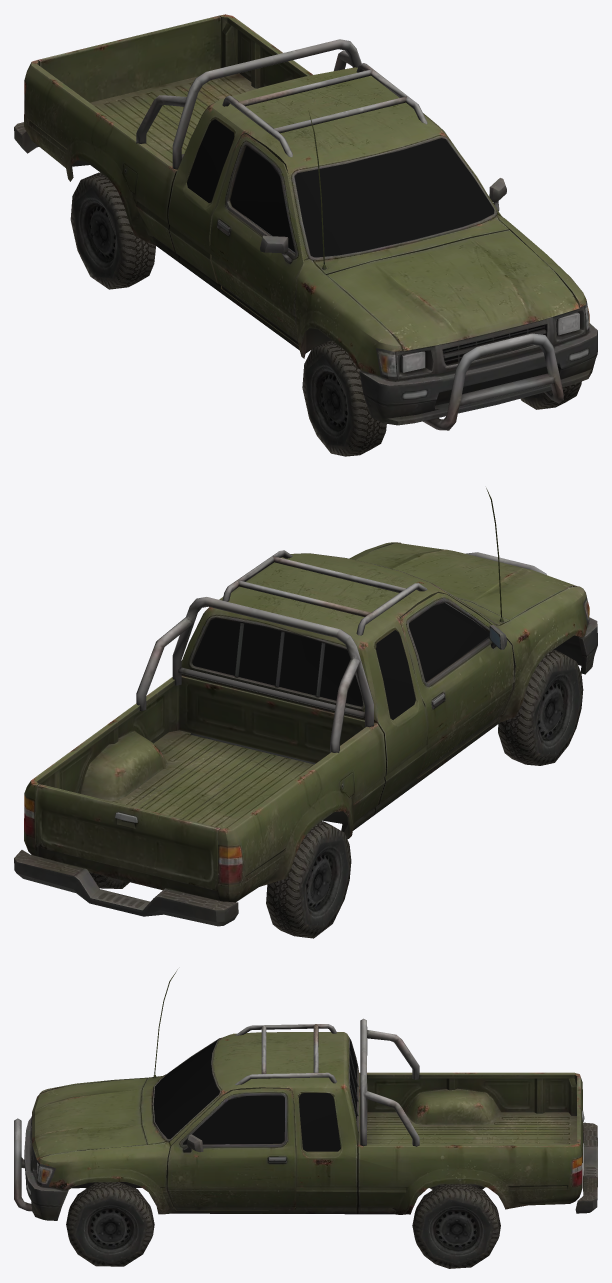
File: pickup.glb
The picture shows the model from 3 angles, top to bottom: view 1: azimuth 30°, elevation 25°; view 2: azimuth 150°, elevation 25°; view 3: azimuth 270°, elevation 25°; orthographic projection. The views are drawn at different scales.
Visible parts, largest first — view 1: pickup body; view 2: pickup body; view 3: pickup body.
Part boxes in pixels (x1,y1,x2,y2): pickup body: (14, 14, 597, 456); pickup body: (14, 488, 597, 938); pickup body: (14, 969, 597, 1268).
Bounding box in the file's own units: 2.18 × 2.61 × 6.01.
2 materials, 1 textured.
